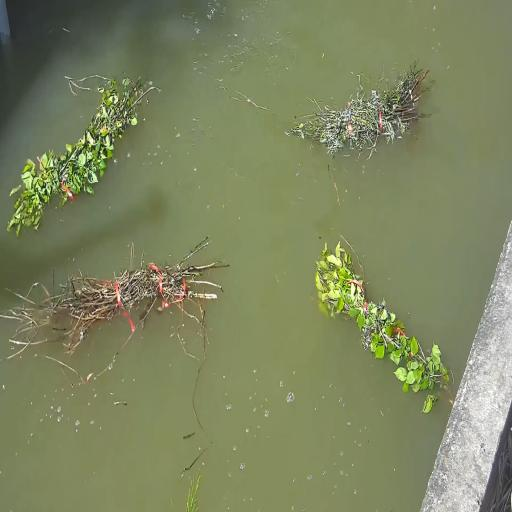twig: (0, 64, 161, 240), (40, 244, 229, 369), (311, 248, 452, 408), (302, 68, 418, 158)
